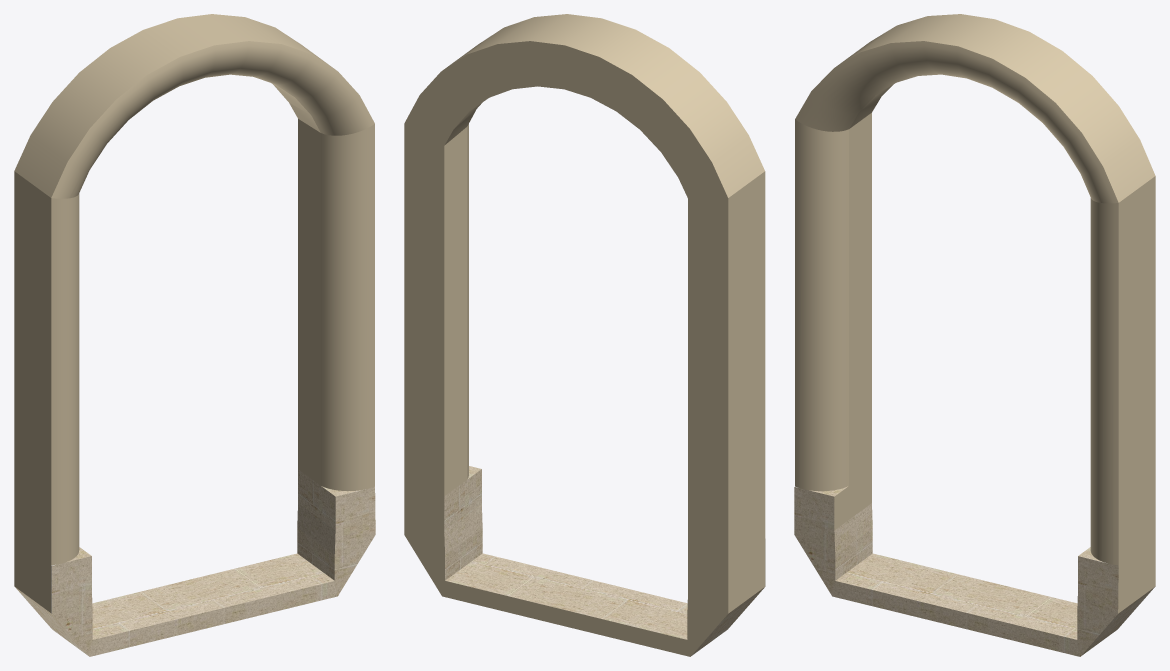
File: puerta.fbx
The picture shows the model from 3 angles, left to right: view 1: azimuth 30°, elevation 25°; view 2: azimuth 150°, elevation 25°; view 3: azimuth 330°, elevation 25°; orthographic projection.
Parts seen in each view (by area): view 1: Model; view 2: Model; view 3: Model.
Boxes of the visible parts, left/top/right/bottom form: Model: left=14, top=14, right=375, bottom=656; Model: left=404, top=14, right=765, bottom=656; Model: left=794, top=14, right=1155, bottom=656.
Size of the model in its own units: 1.72 by 2.95 by 0.3466.
